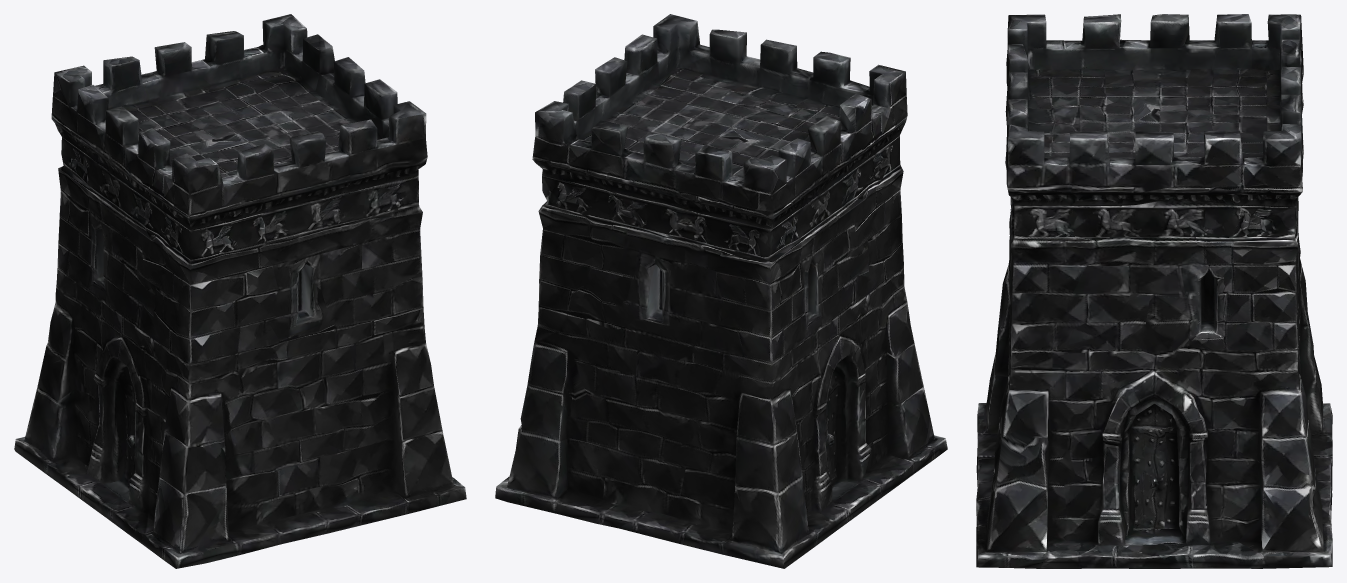
Rendered from castle_tower_short_diamond_black.glb.
3 views of the same model, side by side, from view 1: azimuth 30°, elevation 25°; view 2: azimuth 150°, elevation 25°; view 3: azimuth 270°, elevation 25° (orthographic). The views are drawn at different scales.
Parts seen in each view (by area): view 1: tripo_node_8a2f7fbe-10a7-4520-98ff-3e66a4ba05d9; view 2: tripo_node_8a2f7fbe-10a7-4520-98ff-3e66a4ba05d9; view 3: tripo_node_8a2f7fbe-10a7-4520-98ff-3e66a4ba05d9.
Part boxes in pixels (x1,y1,x2,y2): tripo_node_8a2f7fbe-10a7-4520-98ff-3e66a4ba05d9: (14, 14, 466, 568); tripo_node_8a2f7fbe-10a7-4520-98ff-3e66a4ba05d9: (495, 14, 947, 568); tripo_node_8a2f7fbe-10a7-4520-98ff-3e66a4ba05d9: (976, 14, 1332, 568).
Size of the model in its own units: 0.7757 by 0.9783 by 0.7593.
1 material, 1 textured.
